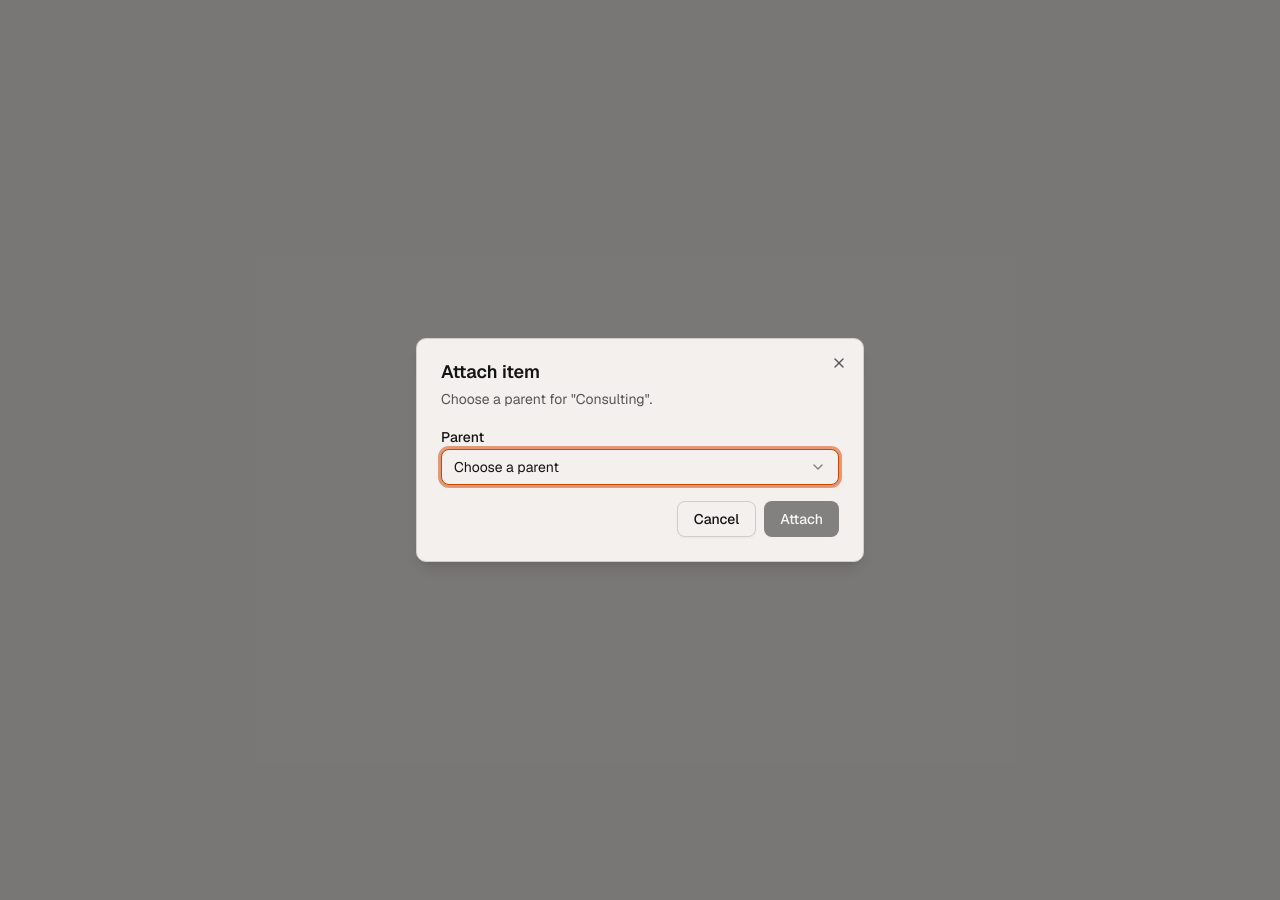
Scenario: AttachDialog — type-coherent parent candidates › lists rubro forks for an orphan categoria and excludes categorias
This screenshot has width=1280, height=900.
Step 1. Click the dropdown labelled "parent" → (506, 467), box [441,449,839,485]
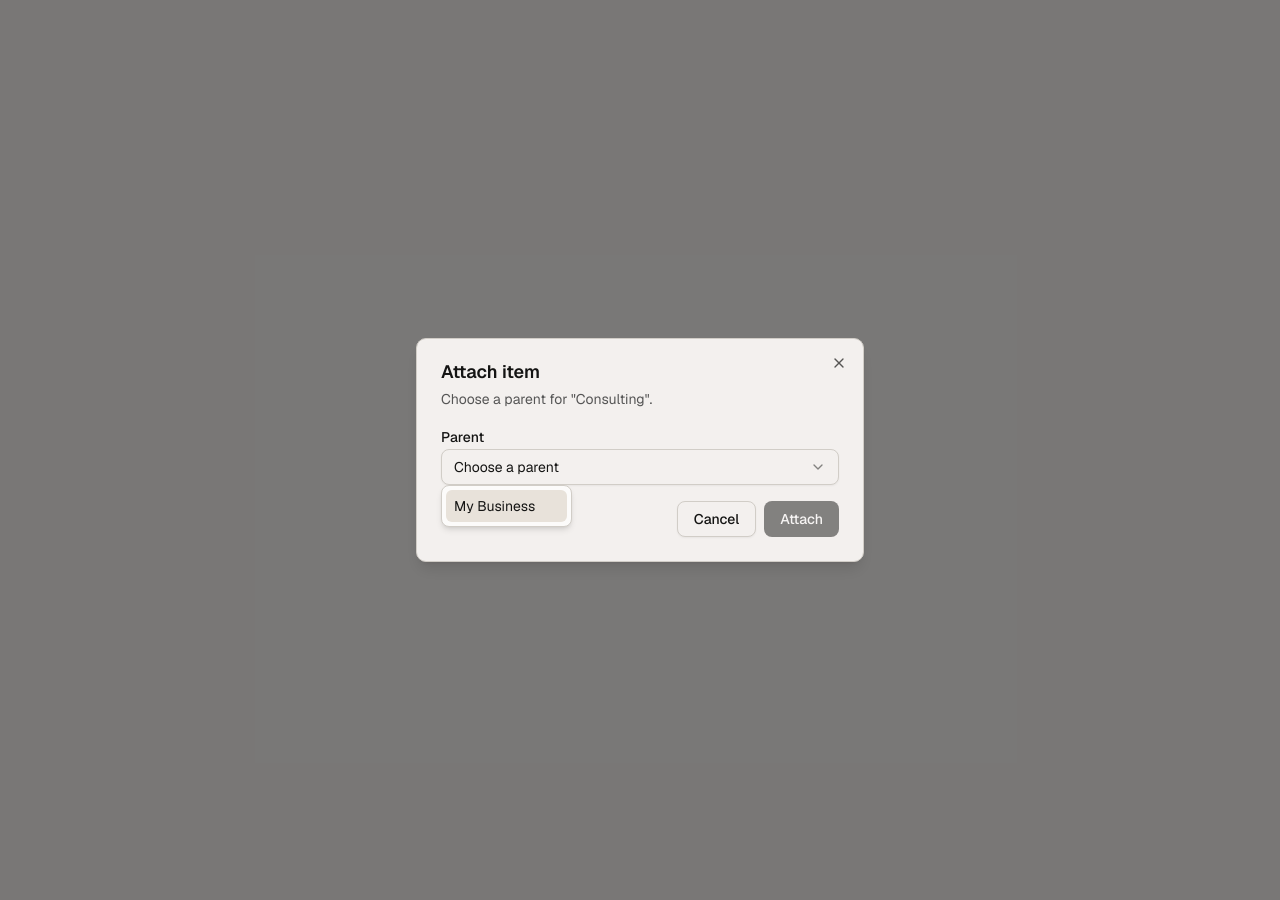
Expected: the option "My Business" is shown, [446,490,567,522]
